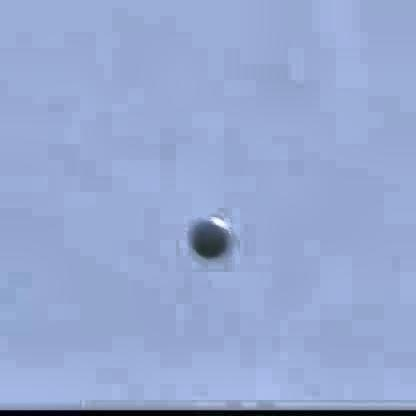golfball: (186, 217, 228, 256)
